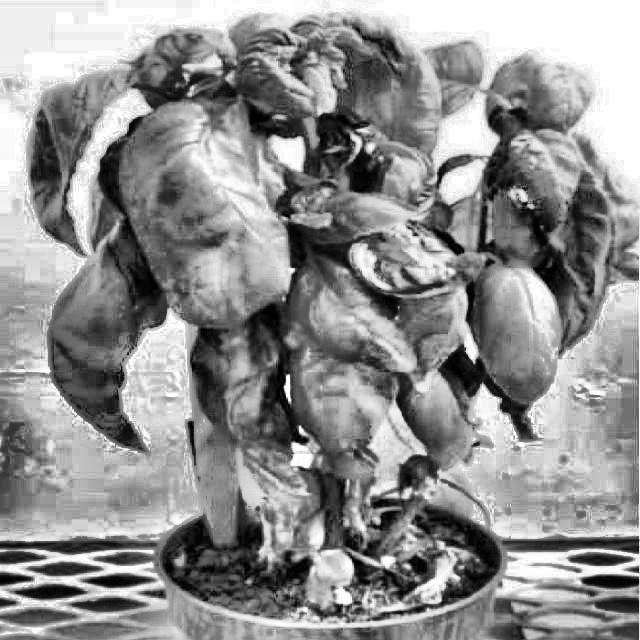plants: (24, 13, 625, 639)
